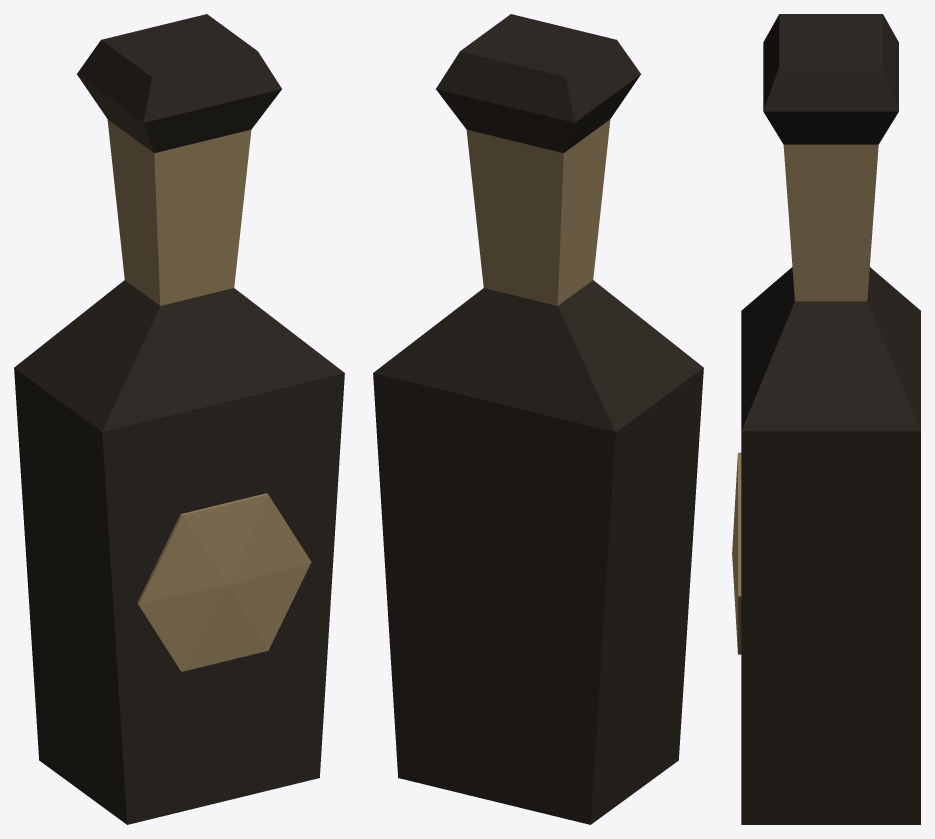
Rendered from Bottle_6.fbx.
3 views of the same model, side by side, from view 1: azimuth 30°, elevation 25°; view 2: azimuth 150°, elevation 25°; view 3: azimuth 270°, elevation 25° (orthographic).
Visible parts, largest first — view 1: pCylinder171; view 2: pCylinder171; view 3: pCylinder171.
Part boxes in pixels (x1=…): pCylinder171: x1=14, y1=14, x2=344, y2=824; pCylinder171: x1=373, y1=14, x2=703, y2=824; pCylinder171: x1=732, y1=14, x2=920, y2=824.
Size of the model in its own units: 16.1 by 45.87 by 10.65.
